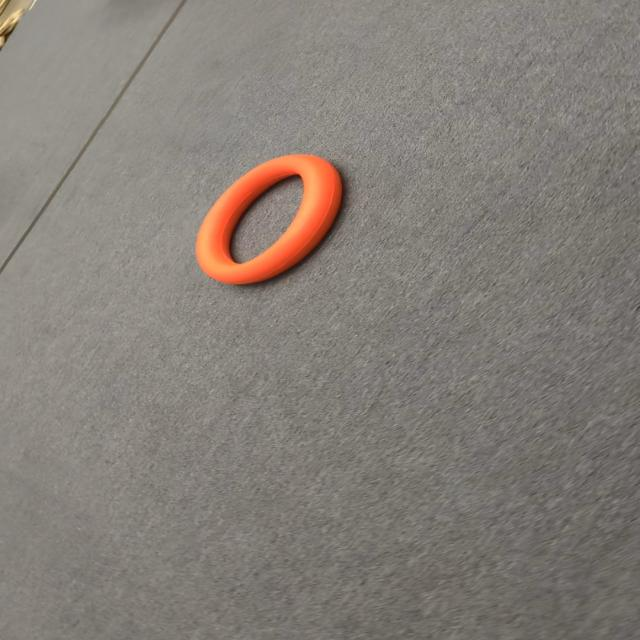note: (198, 153, 345, 282)
